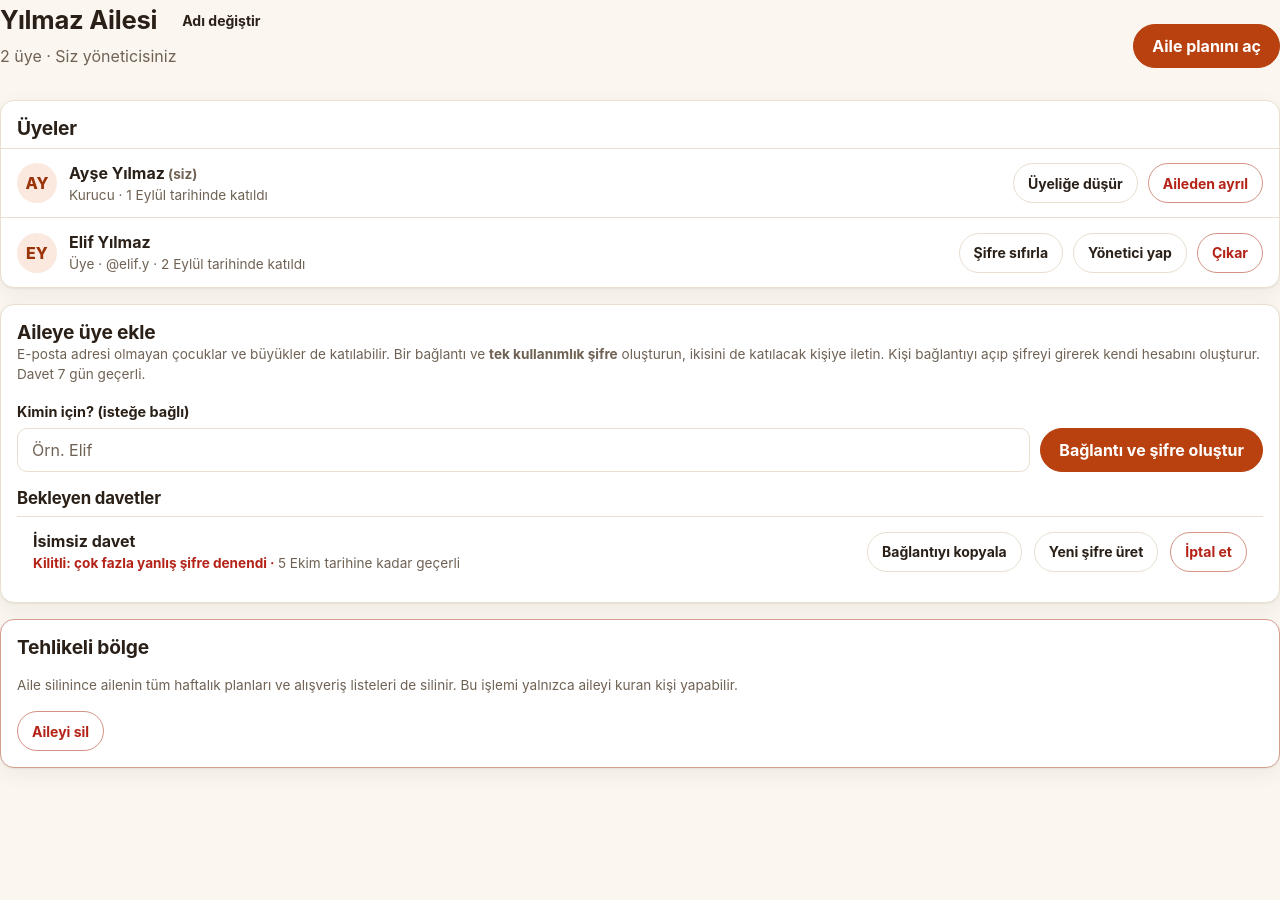
Test: FamilyDetailPage: bağlantı ve tek kullanımlık şifre › kilitli daveti belirtir; 'Yeni şifre üret' yeni şifreyi gösterir
Expected: the text "Kilitli: çok fazla yanlış şifre denendi ·" is shown, x1=33 y1=555 x2=278 y2=571
Expected: the text "İsimsiz davet" is shown, x1=33 y1=531 x2=135 y2=551
Click the button "Yeni şifre üret" at coordinates (1096, 552), box x1=1034 y1=532 x2=1158 y2=572
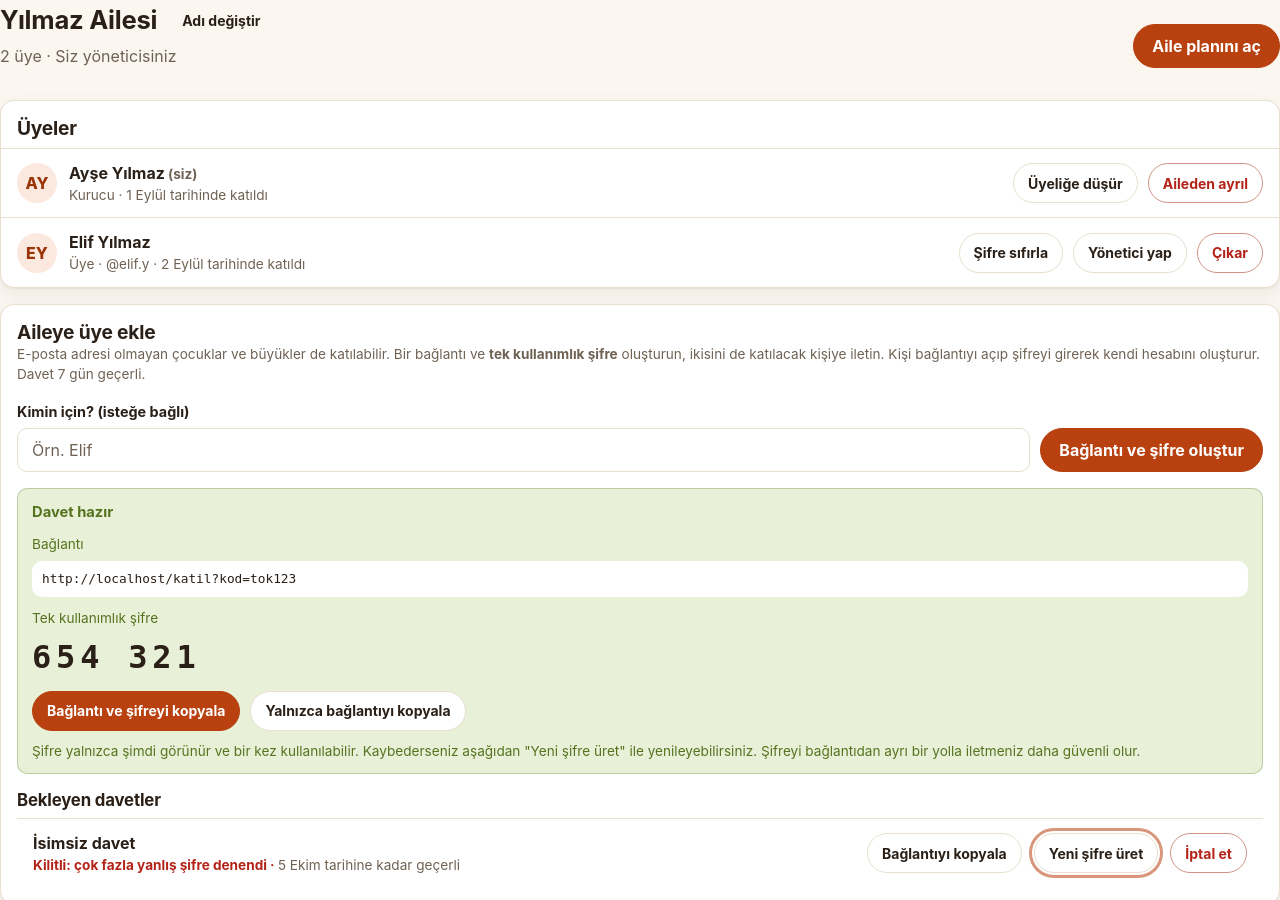
Result: the text named "Tek kullanımlık şifre" reads "654 321" at x1=32 y1=638 x2=200 y2=676
